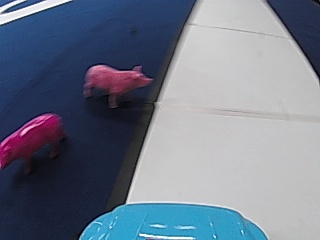pig: (2, 109, 66, 169), (82, 60, 151, 108)
